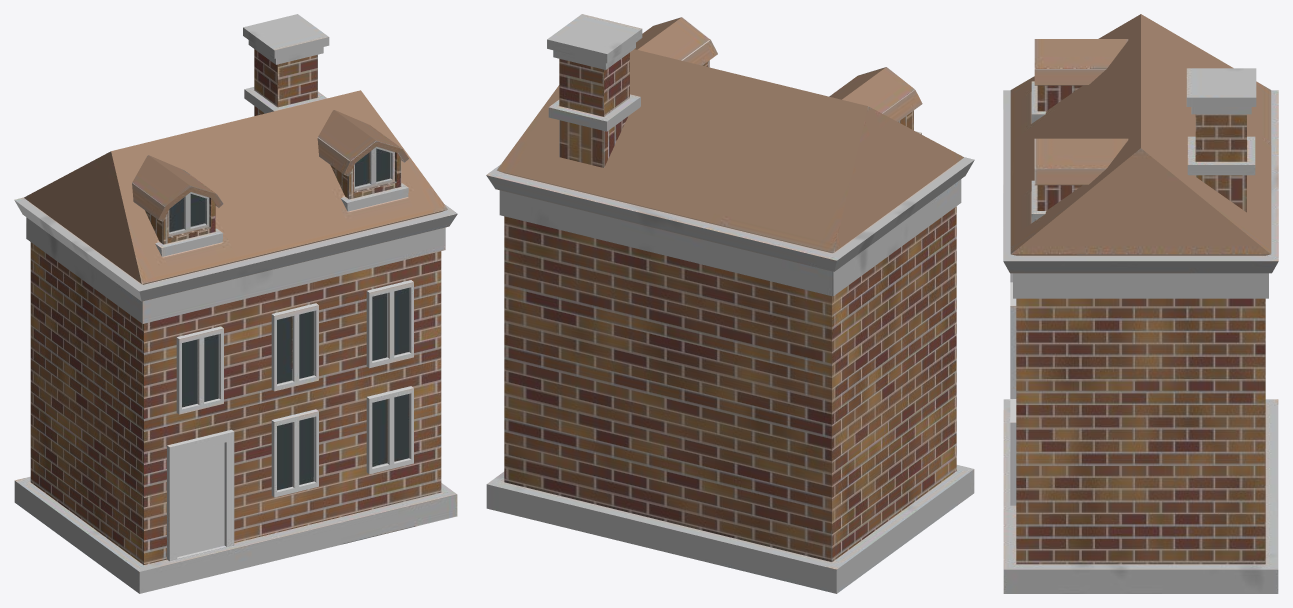
File: House2.glb
3 views of the same model, side by side, from view 1: azimuth 30°, elevation 25°; view 2: azimuth 150°, elevation 25°; view 3: azimuth 270°, elevation 25° (orthographic). The views are drawn at different scales.
Visible parts, largest first — view 1: Bake; view 2: Bake; view 3: Bake.
Boxes of the visible parts, bbox=[...] form: Bake: bbox=[14, 14, 457, 593]; Bake: bbox=[486, 14, 974, 593]; Bake: bbox=[1003, 14, 1278, 593].
Bounding box in the file's own units: 12.56 × 16.18 × 8.56.
7 materials, 1 textured.
